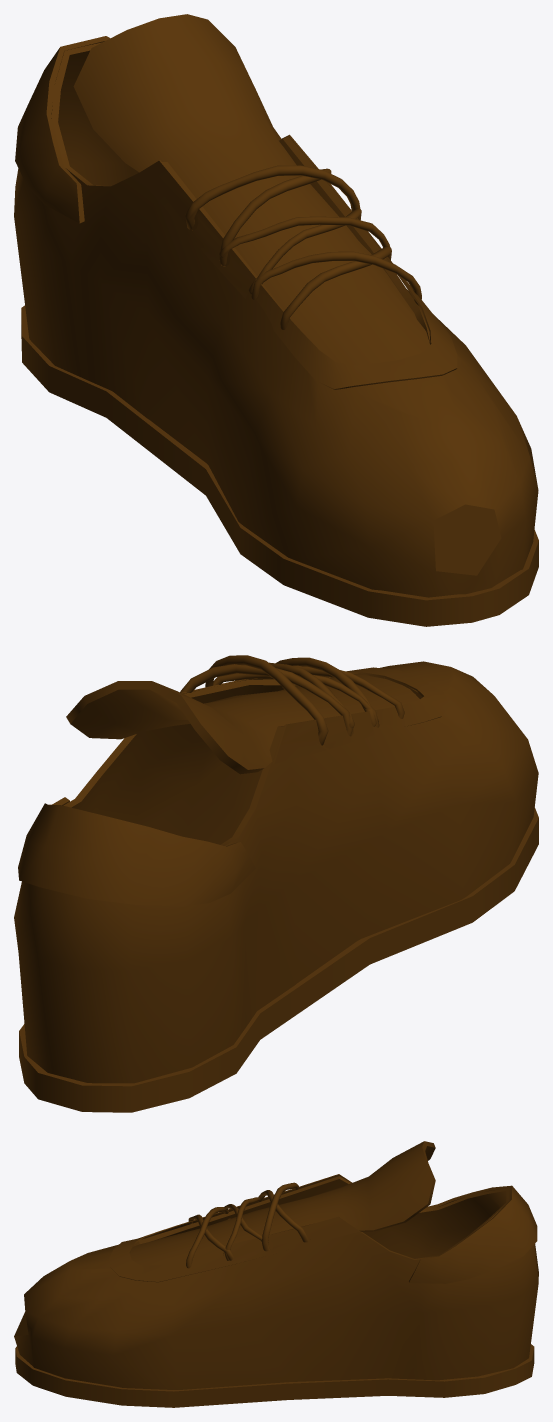
File: New shoe 1.fbx
3 renders of one model, top to bottom at view 1: azimuth 30°, elevation 25°; view 2: azimuth 150°, elevation 25°; view 3: azimuth 270°, elevation 25°, orthographic. The views are drawn at different scales.
Visible parts, largest first — view 1: New_shoe; view 2: New_shoe; view 3: New_shoe.
Part boxes in pixels (left/top/right/bottom): New_shoe: left=14, top=14, right=538, bottom=626; New_shoe: left=14, top=655, right=538, bottom=1112; New_shoe: left=14, top=1141, right=538, bottom=1407.
Bounding box in the file's own units: 19.91 × 27.59 × 59.07.
Materials: 1 (1 with a texture image).
